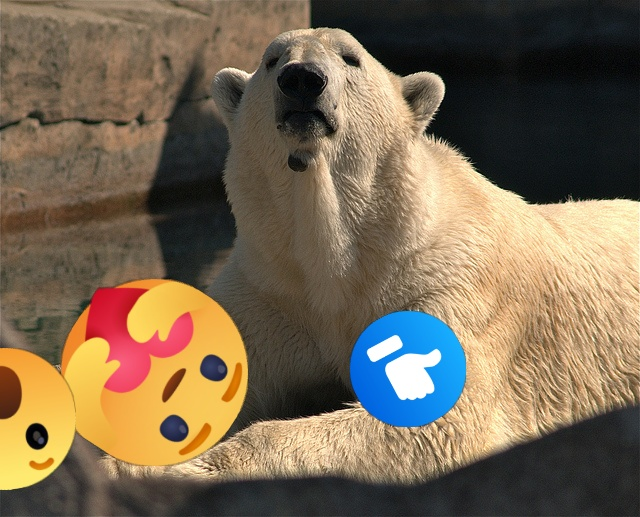care: (61, 279, 248, 466)
like: (350, 311, 466, 427)
wow: (0, 348, 76, 490)
